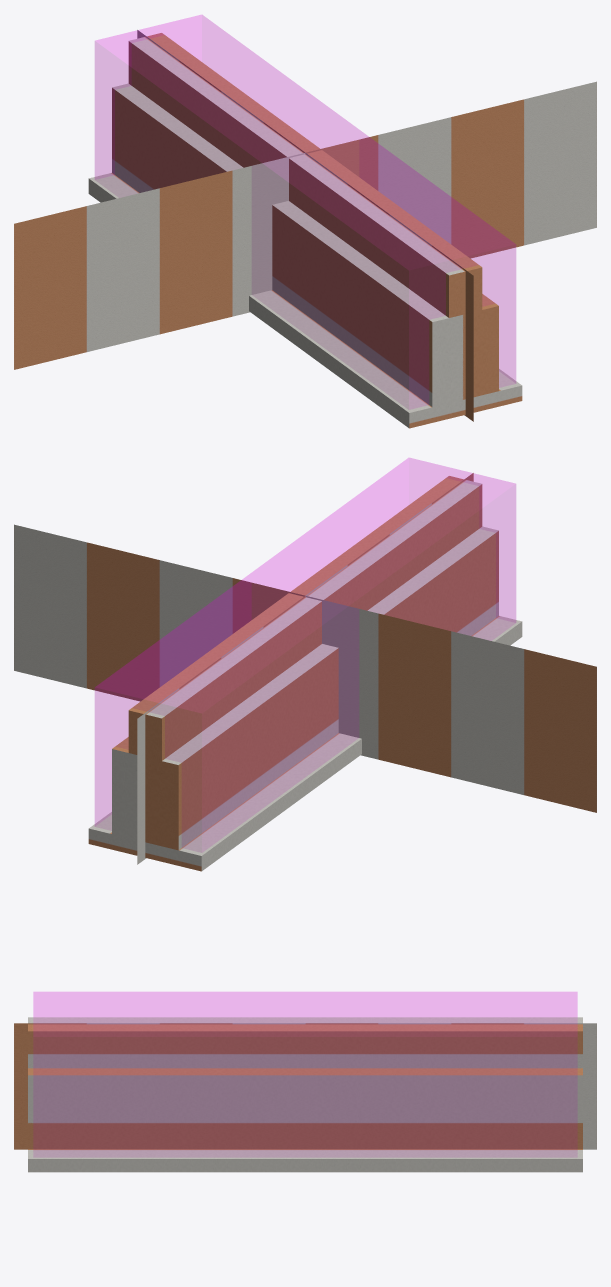
Rendered from krail_stripe_3m.dae.
3 views of the same model, one above another, from view 1: azimuth 30°, elevation 25°; view 2: azimuth 150°, elevation 25°; view 3: azimuth 270°, elevation 25° (orthographic). The views are drawn at different scales.
Parts seen in each view (by area): view 1: krail_stripe_3m_a50, Colmesh_krail-1, krail_stripe_3m_a800, krail_stripe_3m_a200; view 2: krail_stripe_3m_a50, Colmesh_krail-1, krail_stripe_3m_a800, krail_stripe_3m_a200; view 3: krail_stripe_3m_a800, Colmesh_krail-1, krail_stripe_3m_a200, krail_stripe_3m_a50.
Part boxes in pixels (x1,y1,x2,y2): krail_stripe_3m_a50: (14, 30, 596, 421); Colmesh_krail-1: (95, 15, 515, 408); krail_stripe_3m_a800: (88, 33, 522, 428); krail_stripe_3m_a200: (116, 175, 498, 407); krail_stripe_3m_a50: (14, 473, 596, 864); Colmesh_krail-1: (95, 458, 515, 851); krail_stripe_3m_a800: (88, 476, 522, 871); krail_stripe_3m_a200: (112, 527, 498, 849); krail_stripe_3m_a800: (28, 1017, 582, 1172); Colmesh_krail-1: (33, 992, 577, 1156); krail_stripe_3m_a200: (28, 1068, 580, 1149); krail_stripe_3m_a50: (14, 1023, 596, 1149).
Bounding box in the file's own units: 3.15 × 3.15 × 0.8074.
2 materials, 1 textured.
